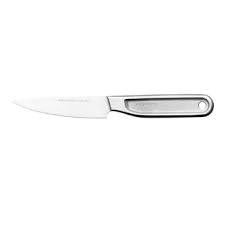Knife: (11, 93, 214, 119)
